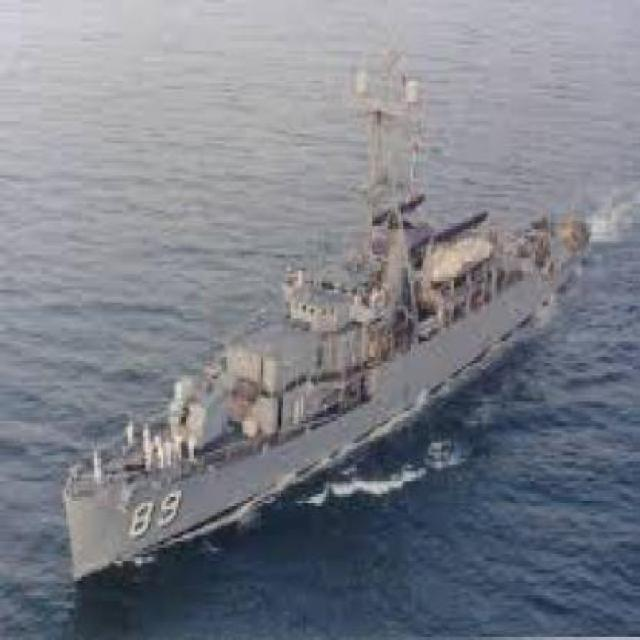warship2: (52, 25, 568, 582)
